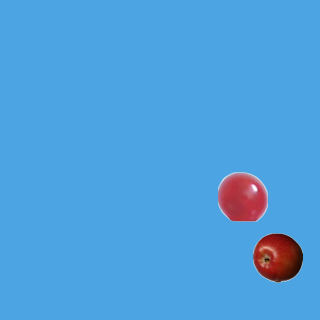Apple Braeburn: (252, 232, 302, 282)
Redcurrant: (217, 171, 267, 221)
